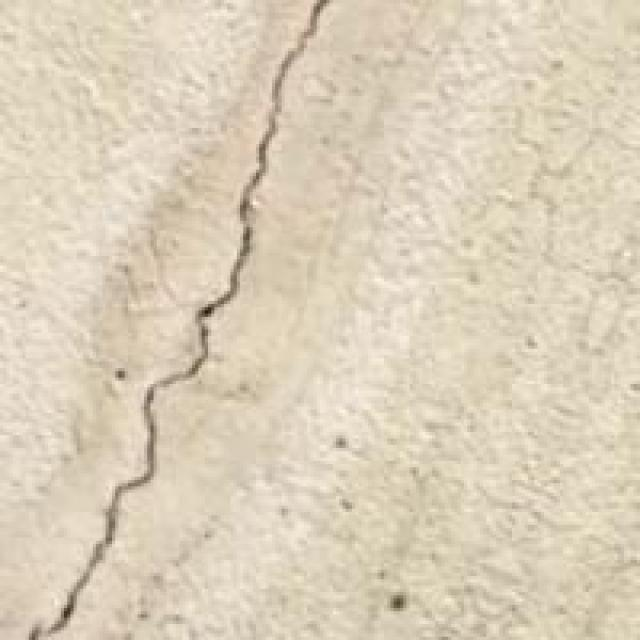crack: (38, 0, 333, 637)
